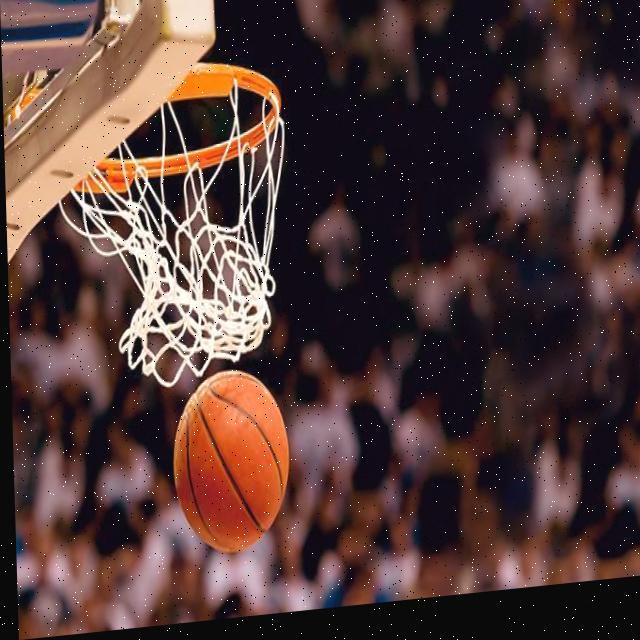basketball: (169, 360, 293, 564)
hoop: (50, 51, 294, 401)
